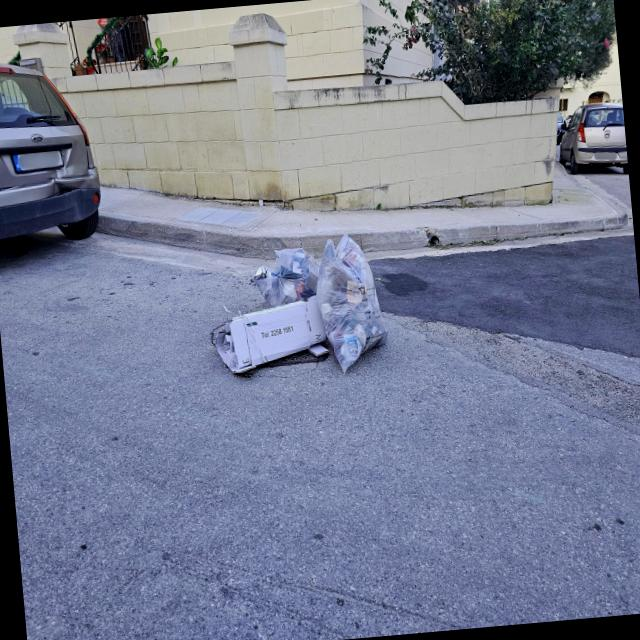grey_bag: (310, 228, 392, 378), (248, 243, 320, 300)
other_waste: (212, 294, 330, 377)
